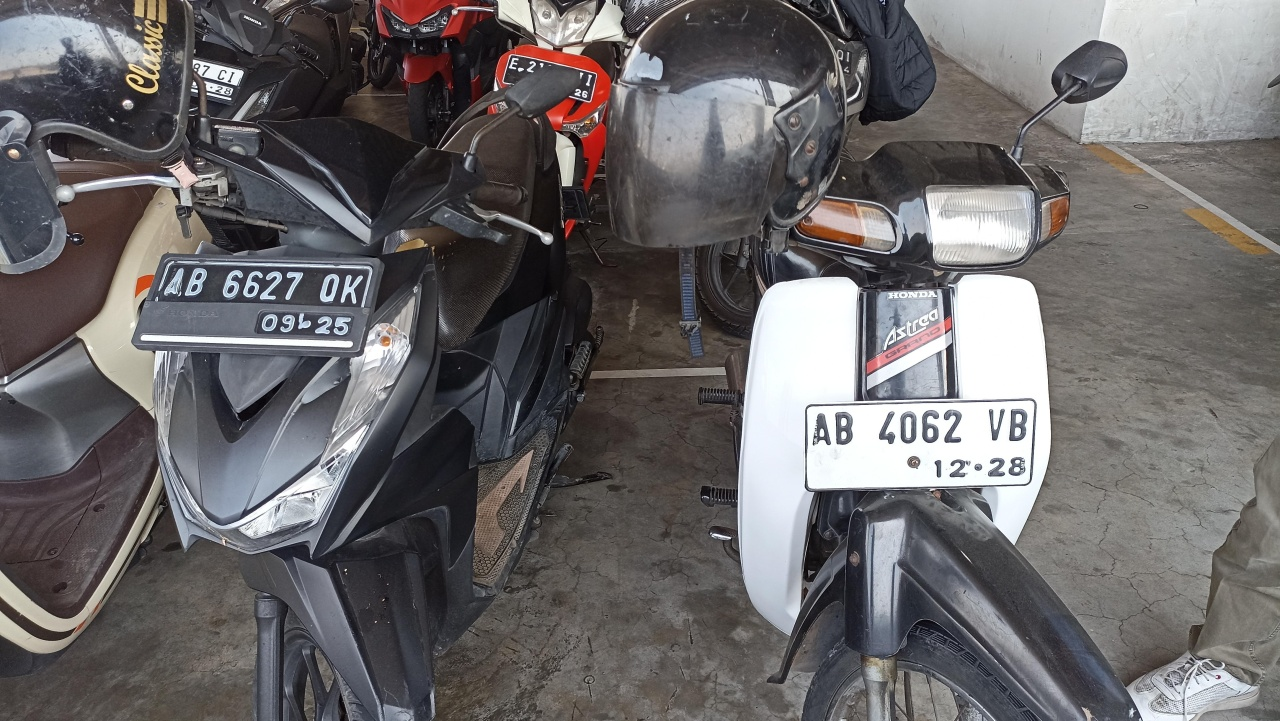plate: (134, 255, 379, 352), (806, 400, 1037, 493)
